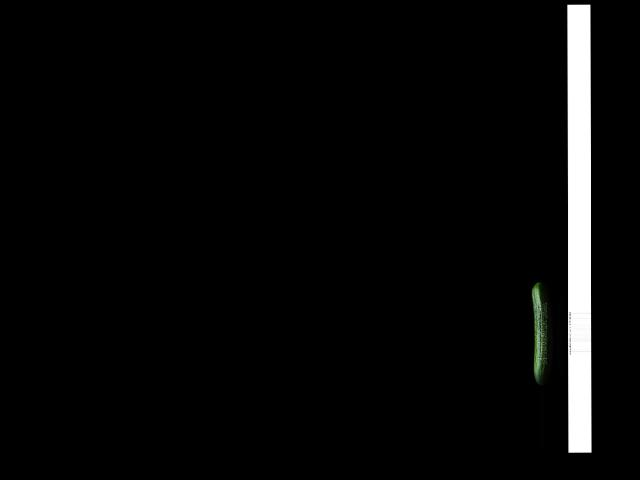cucumber: (532, 281, 548, 384)
